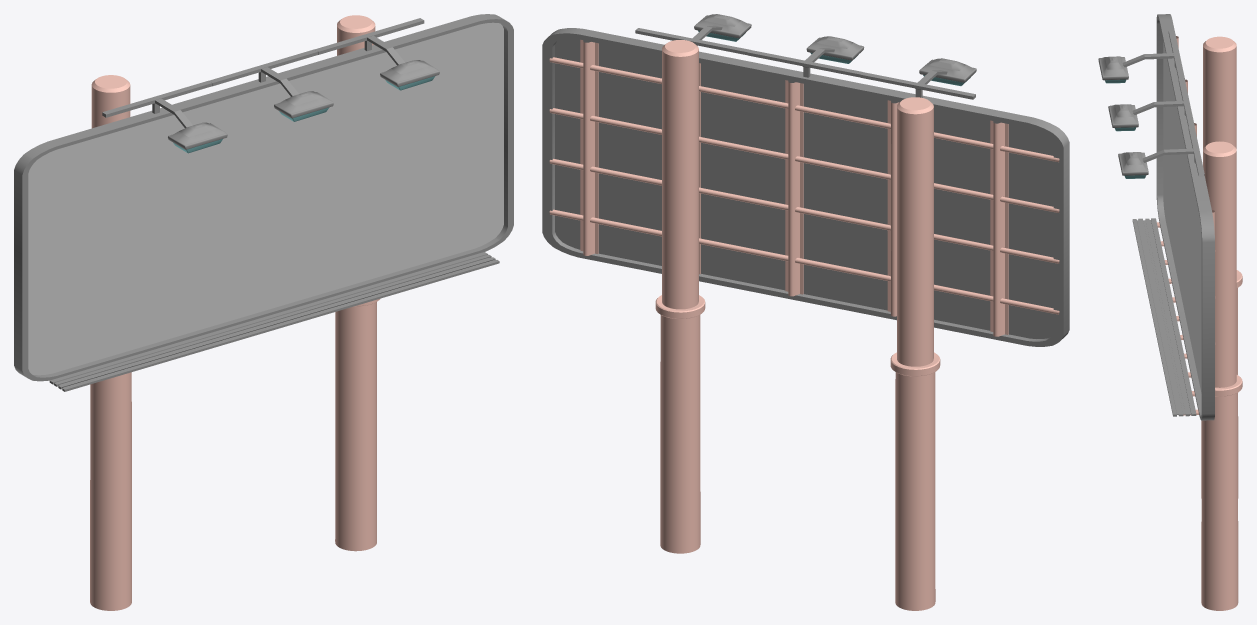
The model's file is billboard.fbx.
3 views of the same model, side by side, from view 1: azimuth 30°, elevation 25°; view 2: azimuth 150°, elevation 25°; view 3: azimuth 270°, elevation 25° (orthographic). The views are drawn at different scales.
Parts seen in each view (by area): view 1: Cube, Cylinder.002, Cube.009, Cube.007; view 2: Cube, Cylinder.002, Cube.001, Cylinder, Cube.007; view 3: Cylinder.002, Cube, Cube.009, Cube.007.
Boxes of the visible parts, x1,y1,x2,y2 form: Cube: (14, 14, 513, 381); Cylinder.002: (90, 15, 379, 610); Cube.009: (49, 252, 499, 391); Cube.007: (102, 18, 439, 153); Cube: (542, 28, 1069, 346); Cylinder.002: (655, 40, 940, 610); Cube.001: (580, 39, 1008, 336); Cylinder: (549, 57, 1059, 314); Cube.007: (635, 14, 976, 99); Cylinder.002: (1201, 36, 1242, 610); Cube: (1156, 14, 1214, 420); Cube.009: (1132, 218, 1196, 416); Cube.007: (1098, 30, 1204, 178).
Size of the model in its own units: 1900 by 1821 by 522.
